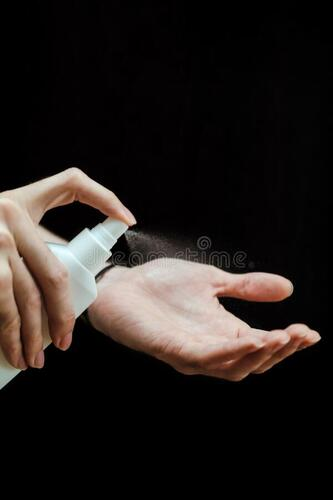sanitizer: (47, 211, 138, 320)
